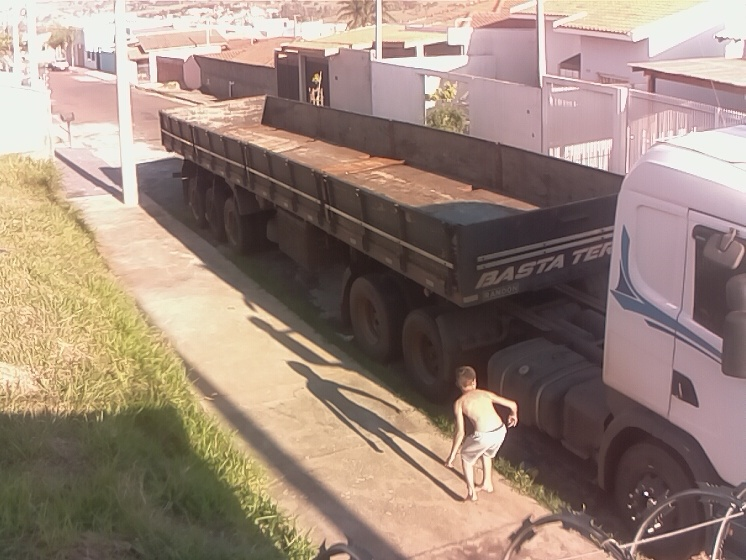person: (440, 363, 520, 504)
